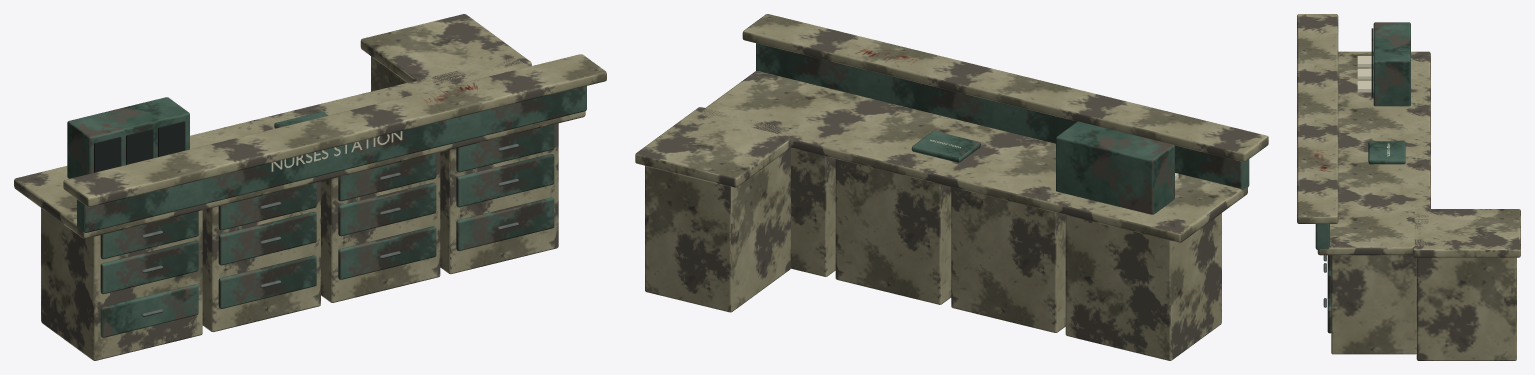
Rendered from nursing_counter.glb.
3 views of the same model, side by side, from view 1: azimuth 30°, elevation 25°; view 2: azimuth 150°, elevation 25°; view 3: azimuth 270°, elevation 25° (orthographic). The views are drawn at different scales.
Visible parts, largest first — view 1: Counter writing ledge, Counter raised front, Nursing counter cabinet, Counter work surface, Counter return top, Nursing counter cabinet.002, Nursing counter cabinet.001, Nursing counter cabinet.003, Open records rack, Counter drawer, Counter drawer.007, Counter drawer.006 (+14 smaller); view 2: Counter work surface, Nursing counter cabinet, Counter return cabinet, Counter writing ledge, Nursing counter cabinet.002, Nursing counter cabinet.001, Counter raised front, Open records rack, Counter return top, Nursing counter cabinet.003, Closed ward register; view 3: Counter work surface, Counter return cabinet, Counter writing ledge, Nursing counter cabinet.003, Counter return top, Open records rack, Closed ward register, Counter raised front.
Boxes of the visible parts, x1=… form: Counter writing ledge: x1=63, y1=54, x2=606, y2=207; Counter raised front: x1=77, y1=86, x2=586, y2=232; Nursing counter cabinet: x1=41, y1=208, x2=202, y2=360; Counter work surface: x1=14, y1=57, x2=585, y2=238; Counter return top: x1=360, y1=14, x2=531, y2=85; Nursing counter cabinet.002: x1=321, y1=152, x2=440, y2=302; Nursing counter cabinet.001: x1=202, y1=181, x2=320, y2=331; Nursing counter cabinet.003: x1=440, y1=123, x2=558, y2=274; Open records rack: x1=67, y1=97, x2=189, y2=178; Counter drawer: x1=100, y1=284, x2=198, y2=337; Counter drawer.007: x1=338, y1=182, x2=436, y2=236; Counter drawer.006: x1=338, y1=226, x2=436, y2=279; Counter work surface: x1=698, y1=71, x2=1247, y2=242; Nursing counter cabinet: x1=1065, y1=213, x2=1221, y2=360; Counter return cabinet: x1=645, y1=148, x2=790, y2=312; Counter writing ledge: x1=742, y1=14, x2=1268, y2=161; Nursing counter cabinet.002: x1=835, y1=159, x2=951, y2=304; Nursing counter cabinet.001: x1=951, y1=187, x2=1065, y2=332; Counter raised front: x1=756, y1=43, x2=1249, y2=190; Open records rack: x1=1056, y1=121, x2=1174, y2=214; Counter return top: x1=635, y1=107, x2=796, y2=187; Nursing counter cabinet.003: x1=791, y1=148, x2=835, y2=276; Closed ward register: x1=911, y1=131, x2=980, y2=162; Counter work surface: x1=1317, y1=51, x2=1430, y2=255; Counter return cabinet: x1=1416, y1=257, x2=1516, y2=360; Counter writing ledge: x1=1297, y1=14, x2=1338, y2=223; Nursing counter cabinet.003: x1=1331, y1=255, x2=1416, y2=354; Counter return top: x1=1413, y1=209, x2=1520, y2=257; Open records rack: x1=1373, y1=22, x2=1410, y2=106; Closed ward register: x1=1368, y1=141, x2=1405, y2=164; Counter raised front: x1=1315, y1=224, x2=1329, y2=249.
Size of the model in its own units: 3.74 by 1.38 by 1.74.
Materials: 6 (4 with a texture image).
